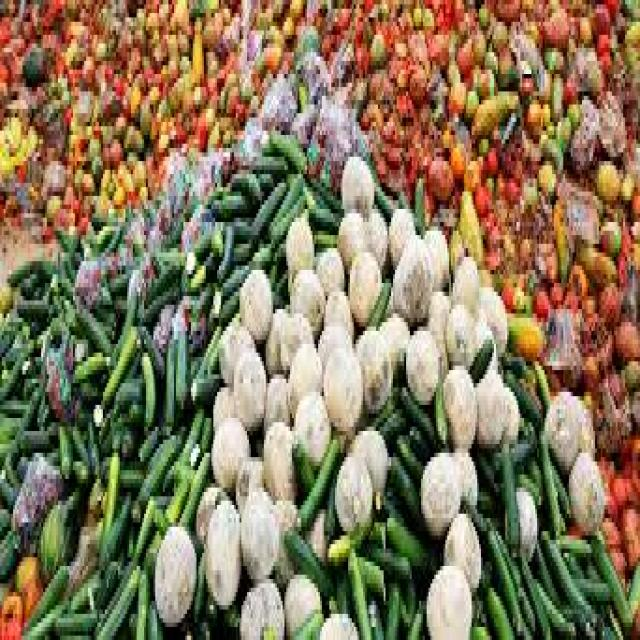food_waste: (12, 36, 615, 576), (177, 62, 443, 640)
